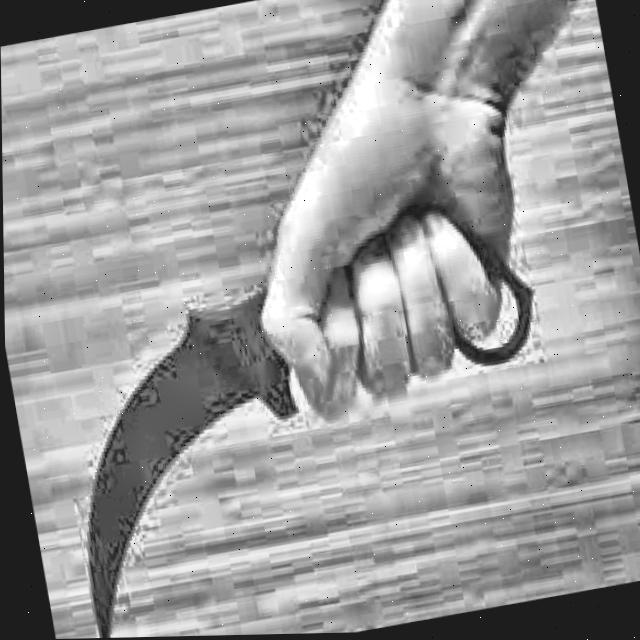celurit: (58, 201, 569, 638)
